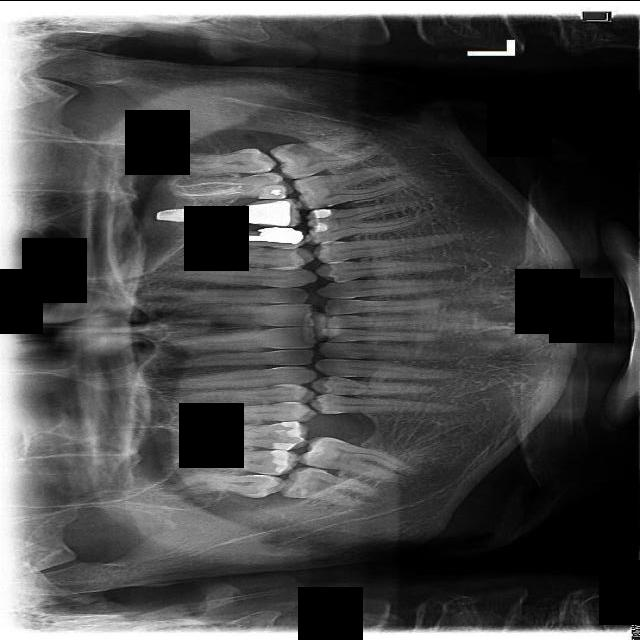55: (157, 206, 241, 225)
74: (173, 186, 242, 199), (177, 179, 246, 187), (182, 237, 238, 243), (190, 232, 239, 237)
NucleOSS Implant: (237, 224, 305, 244)
Sterngold Implant: (280, 141, 311, 155), (251, 171, 273, 180), (300, 187, 314, 200), (298, 174, 316, 183), (310, 201, 333, 208), (253, 168, 266, 172), (327, 241, 335, 244)
Straumann Implant: (271, 450, 294, 472), (302, 440, 327, 459), (276, 420, 302, 437), (257, 184, 287, 198), (312, 207, 332, 218), (269, 442, 298, 449), (313, 221, 329, 231)
Zimmer Implant: (240, 194, 305, 232)
